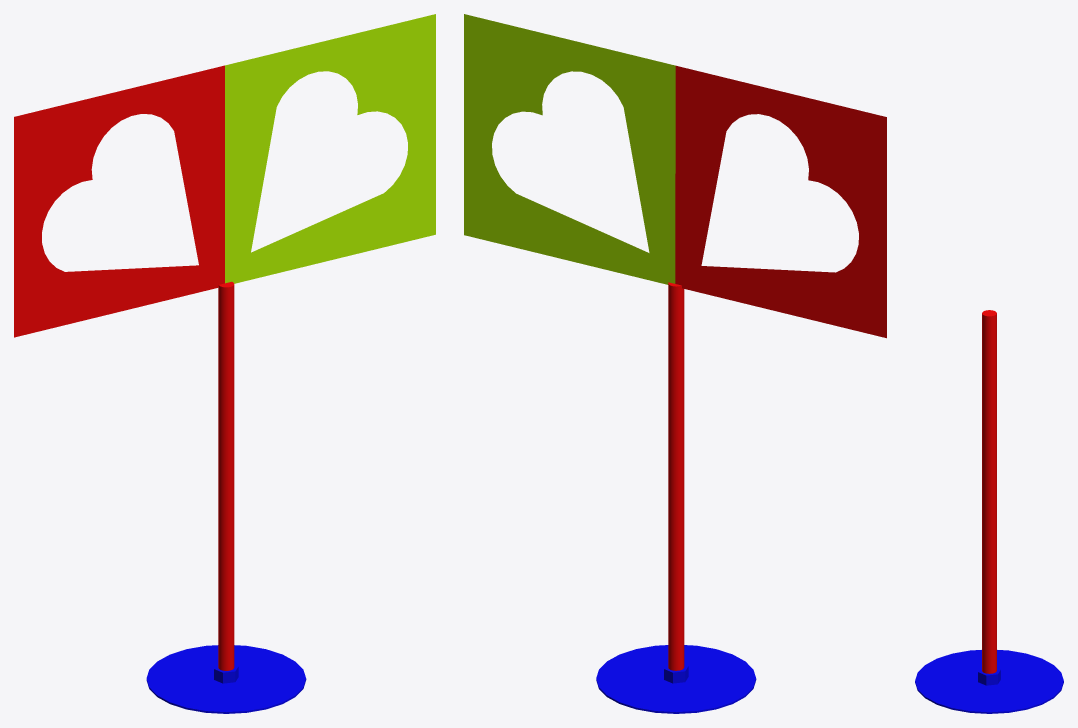
The model's file is cupid.dae.
The picture shows the model from 3 angles, left to right: view 1: azimuth 30°, elevation 25°; view 2: azimuth 150°, elevation 25°; view 3: azimuth 270°, elevation 25°; orthographic projection. The views are drawn at different scales.
Visible parts, largest first — view 1: group_0_001, group_0, SketchUp, SketchUp_002; view 2: group_0_001, group_0, SketchUp, SketchUp_002; view 3: SketchUp, SketchUp_002, SketchUp_001.
Boxes of the visible parts, left/top/right/bottom form: group_0_001: left=225, top=14, right=435, bottom=283; group_0: left=14, top=65, right=224, bottom=337; SketchUp: left=146, top=645, right=306, bottom=713; SketchUp_002: left=218, top=281, right=234, bottom=670; group_0_001: left=464, top=14, right=675, bottom=284; group_0: left=675, top=65, right=886, bottom=338; SketchUp: left=596, top=645, right=756, bottom=713; SketchUp_002: left=668, top=282, right=684, bottom=670; SketchUp: left=915, top=650, right=1063, bottom=713; SketchUp_002: left=982, top=310, right=996, bottom=673; SketchUp_001: left=978, top=667, right=1000, bottom=685.
Size of the model in its own units: 1.22 by 0.4 by 1.7.
